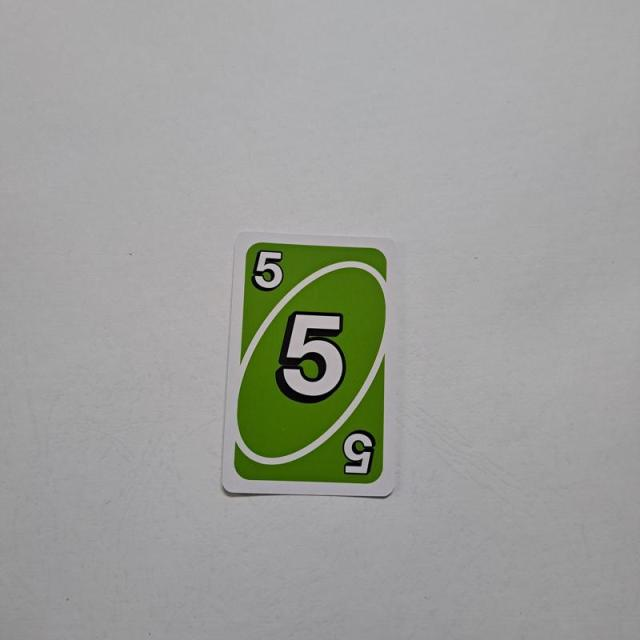Green_Card: (232, 238, 391, 488)
Number_5: (250, 244, 288, 298)
